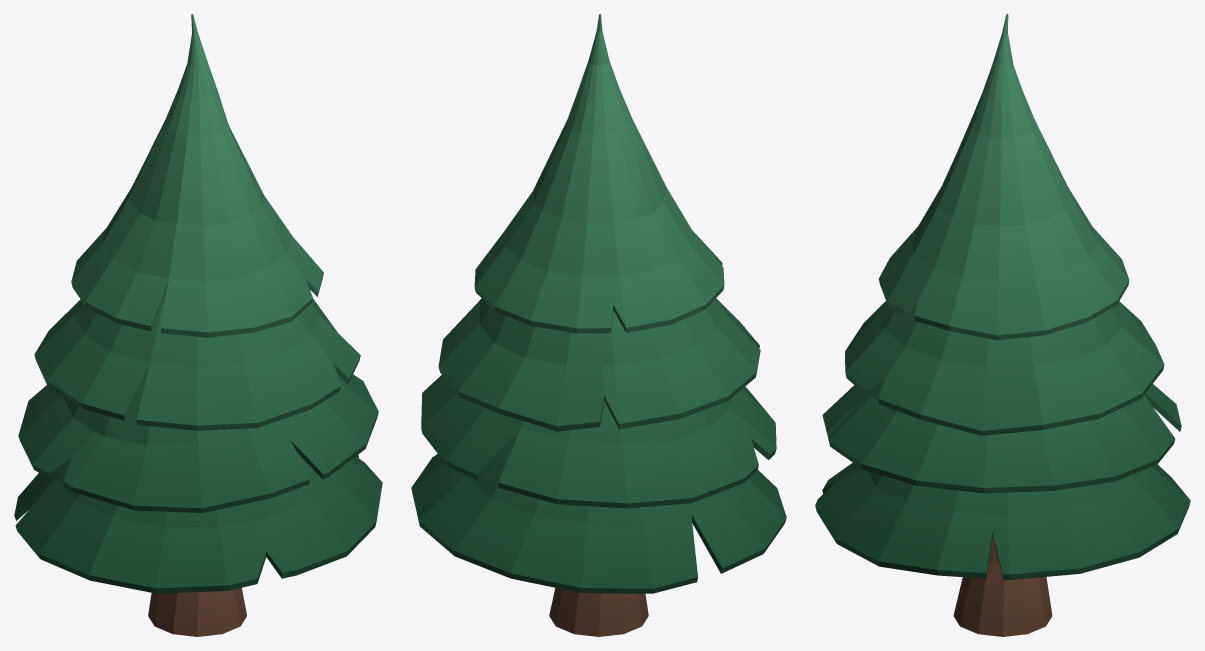
The model's file is drzewo1.fbx.
The picture shows the model from 3 angles, left to right: view 1: azimuth 30°, elevation 25°; view 2: azimuth 150°, elevation 25°; view 3: azimuth 270°, elevation 25°; orthographic projection.
Visible parts, largest first — view 1: Circle.015; view 2: Circle.015; view 3: Circle.015.
Part boxes in pixels (<box>): Circle.015: <box>14,14,382,636</box>; Circle.015: <box>411,14,786,636</box>; Circle.015: <box>815,14,1190,636</box>.
Bounding box in the file's own units: 217 × 385 × 218.
